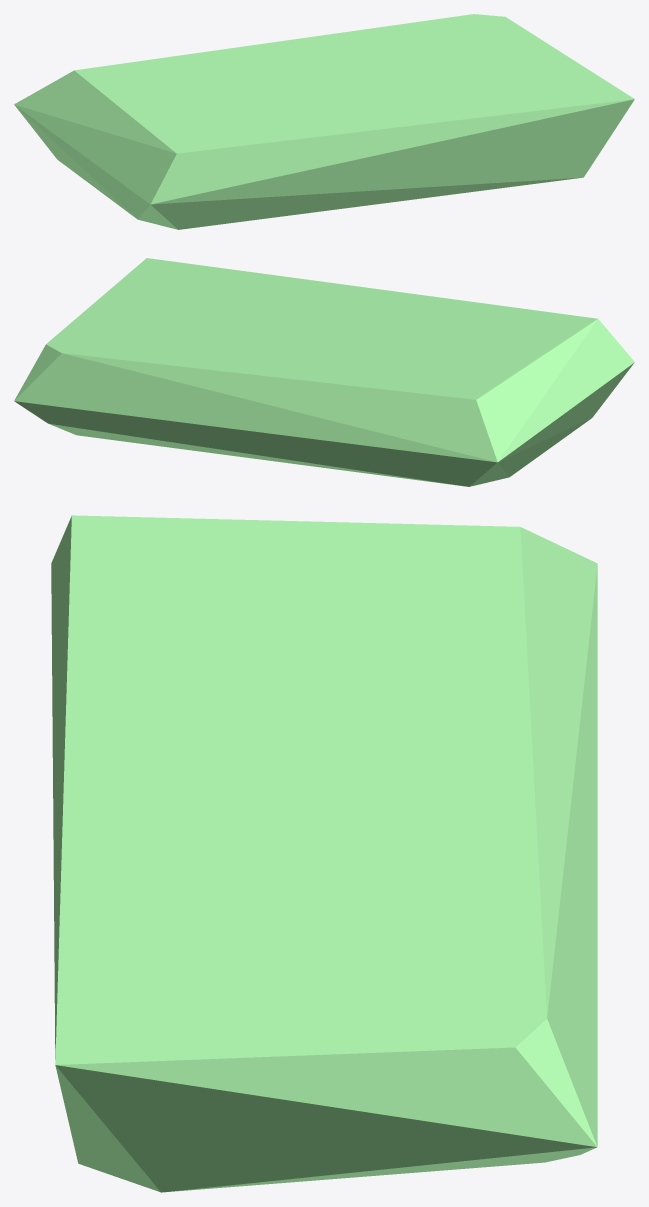
File: UMIRobot_UMIRobot_link_2_convex_coll_36.dae
3 renders of one model, top to bottom at view 1: azimuth 30°, elevation 25°; view 2: azimuth 150°, elevation 25°; view 3: azimuth 270°, elevation 25°, orthographic. The views are drawn at different scales.
Parts seen in each view (by area): view 1: node; view 2: node; view 3: node.
Boxes of the visible parts, bbox=[...] form: node: bbox=[14, 14, 634, 229]; node: bbox=[14, 258, 634, 486]; node: bbox=[51, 515, 597, 1192].
Size of the model in its own units: 0.0406 by 0.0104 by 0.0198.
